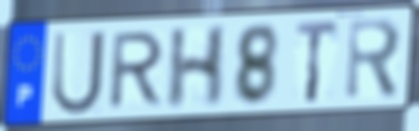8: (233, 21, 281, 109)
H: (164, 22, 230, 113)
R: (343, 15, 405, 104), (105, 28, 168, 113)
T: (293, 18, 341, 106)
U: (50, 28, 108, 118)
